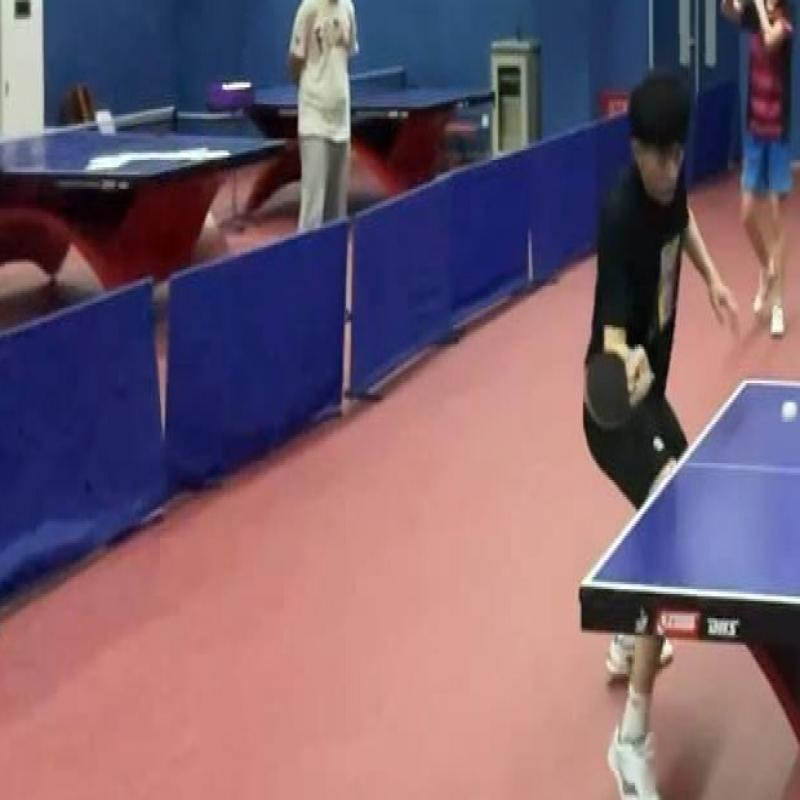bats: (574, 340, 643, 436)
